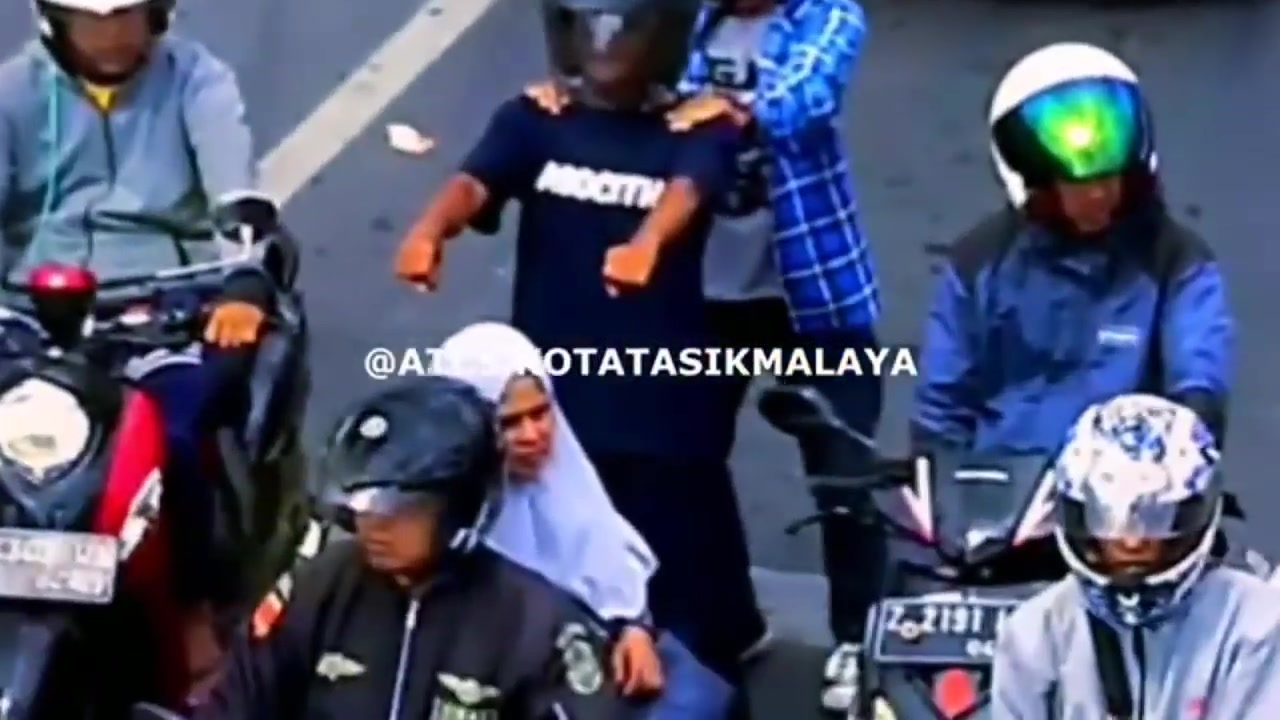person with helmet: (1035, 391, 1251, 706), (966, 25, 1173, 266), (318, 372, 508, 602)
person without helm: (469, 316, 641, 556)
